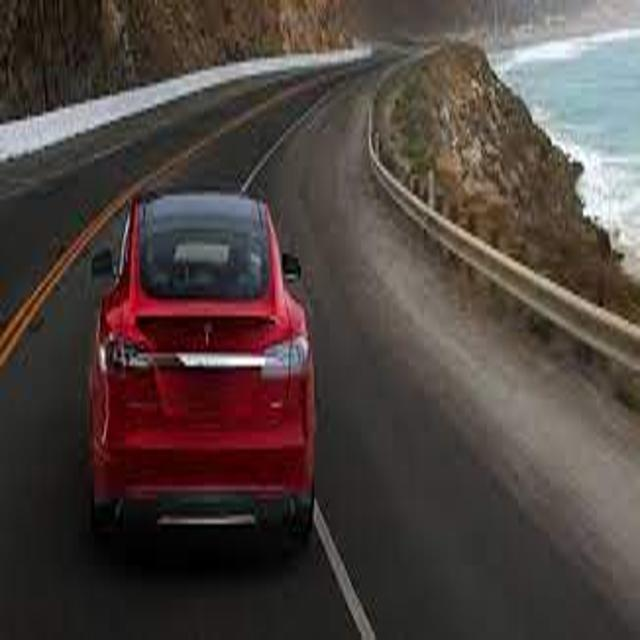car: (89, 191, 316, 538)
